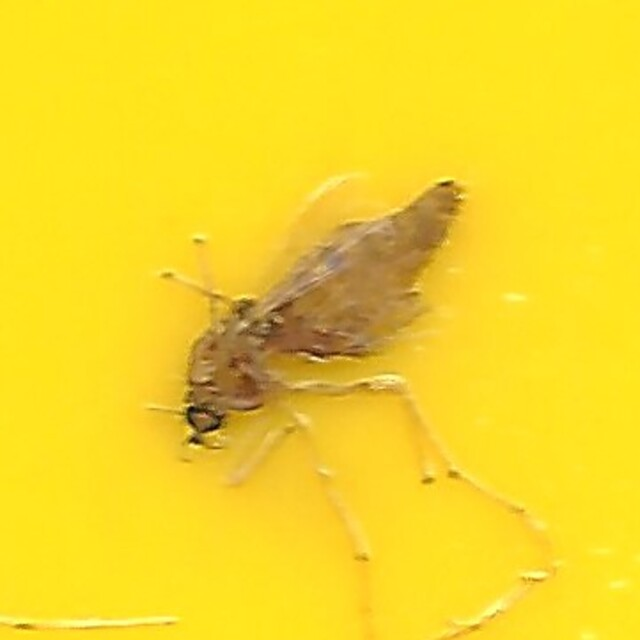Nematocera: (177, 178, 463, 462)
